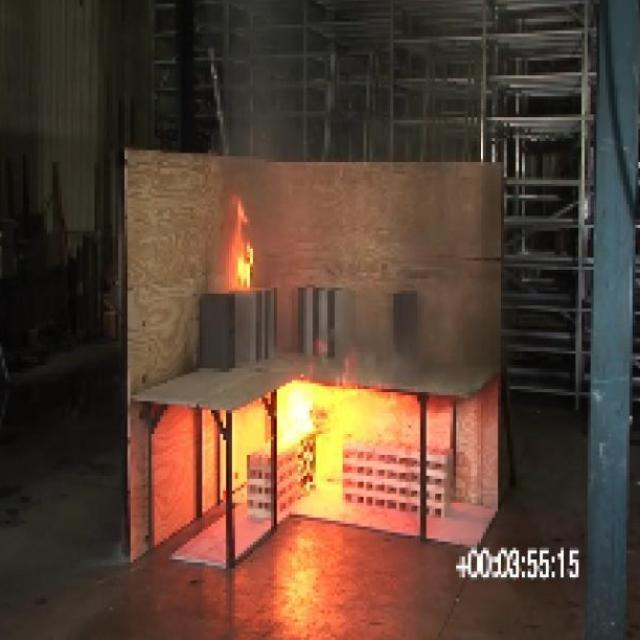fire: (325, 312, 521, 394), (224, 0, 280, 187)
smoke: (276, 376, 365, 500), (228, 193, 259, 296)
